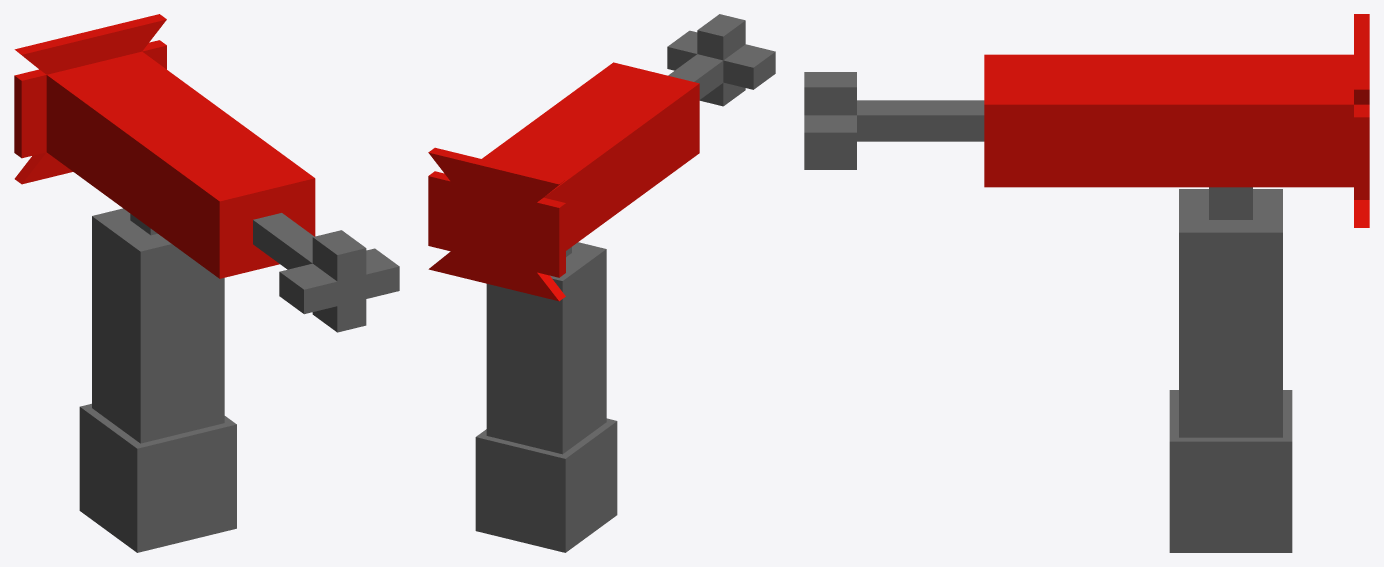
The model's file is Tower_2.fbx.
3 renders of one model, left to right at view 1: azimuth 30°, elevation 25°; view 2: azimuth 150°, elevation 25°; view 3: azimuth 270°, elevation 25°, orthographic. The views are drawn at different scales.
Visible parts, largest first — view 1: Tower_1_Turret, Tower_1_Base; view 2: Tower_1_Turret, Tower_1_Base; view 3: Tower_1_Turret, Tower_1_Base.
Boxes of the visible parts, bbox=[...] form: Tower_1_Turret: bbox=[14, 14, 399, 332]; Tower_1_Base: bbox=[79, 208, 236, 552]; Tower_1_Turret: bbox=[428, 14, 775, 301]; Tower_1_Base: bbox=[475, 242, 617, 552]; Tower_1_Turret: bbox=[804, 14, 1369, 227]; Tower_1_Base: bbox=[1169, 187, 1292, 552].
Size of the model in its own units: 292 by 848 by 921.
